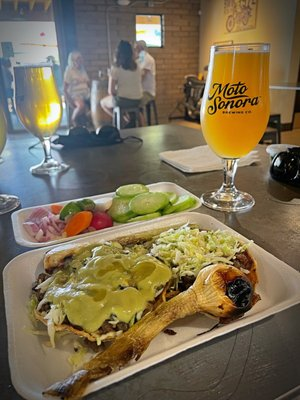soup: (11, 212, 261, 400)
